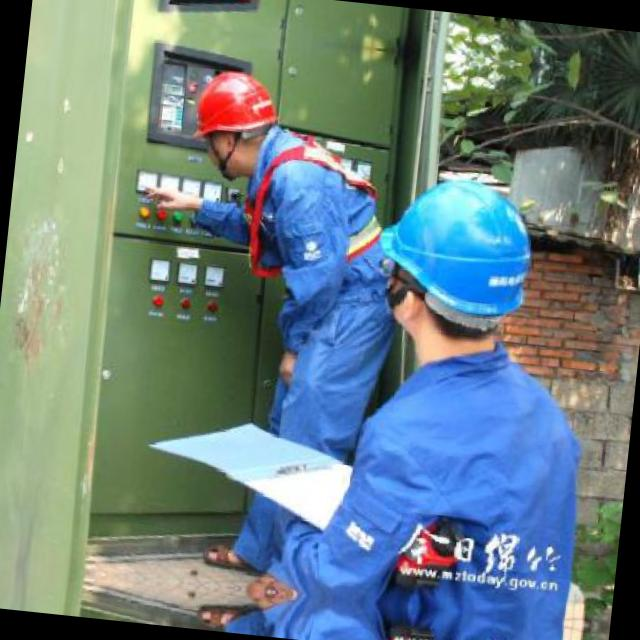helmet: (360, 148, 559, 373), (172, 53, 288, 188)
